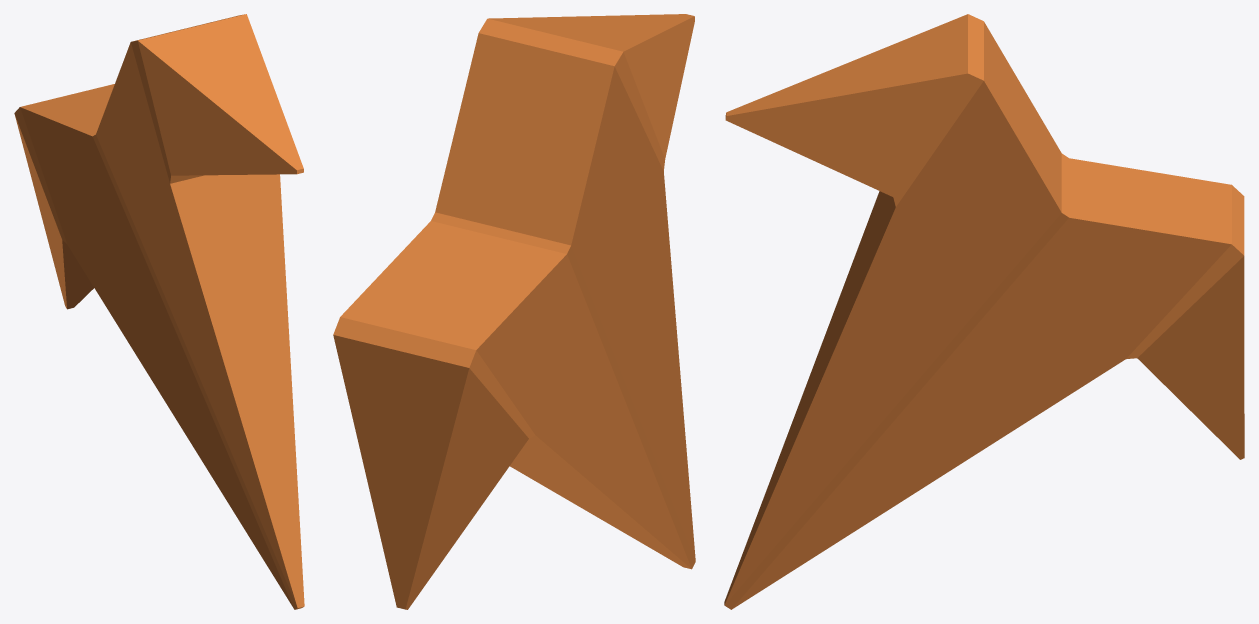
File: Starfragment4.fbx
3 renders of one model, left to right at view 1: azimuth 30°, elevation 25°; view 2: azimuth 150°, elevation 25°; view 3: azimuth 270°, elevation 25°, orthographic. The views are drawn at different scales.
Visible parts, largest first — view 1: Cube.006; view 2: Cube.006; view 3: Cube.006.
Part boxes in pixels (x1,y1,x2,y2): Cube.006: (14,14,304,609); Cube.006: (333,14,695,609); Cube.006: (724,14,1244,609).
Bounding box in the file's own units: 42.51 × 188 × 157.
